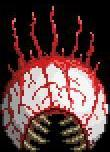eyeC: (0, 1, 110, 152)
